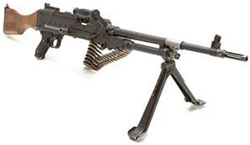rifle: (4, 3, 250, 137)
